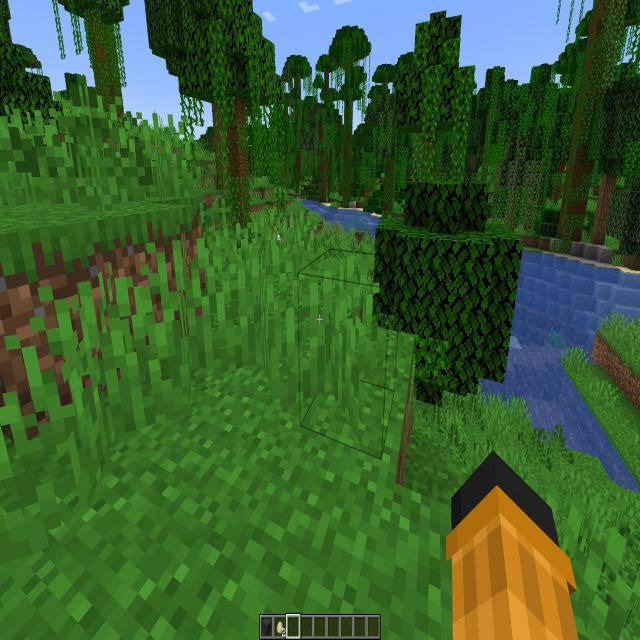Chicken: (275, 229, 282, 244)
